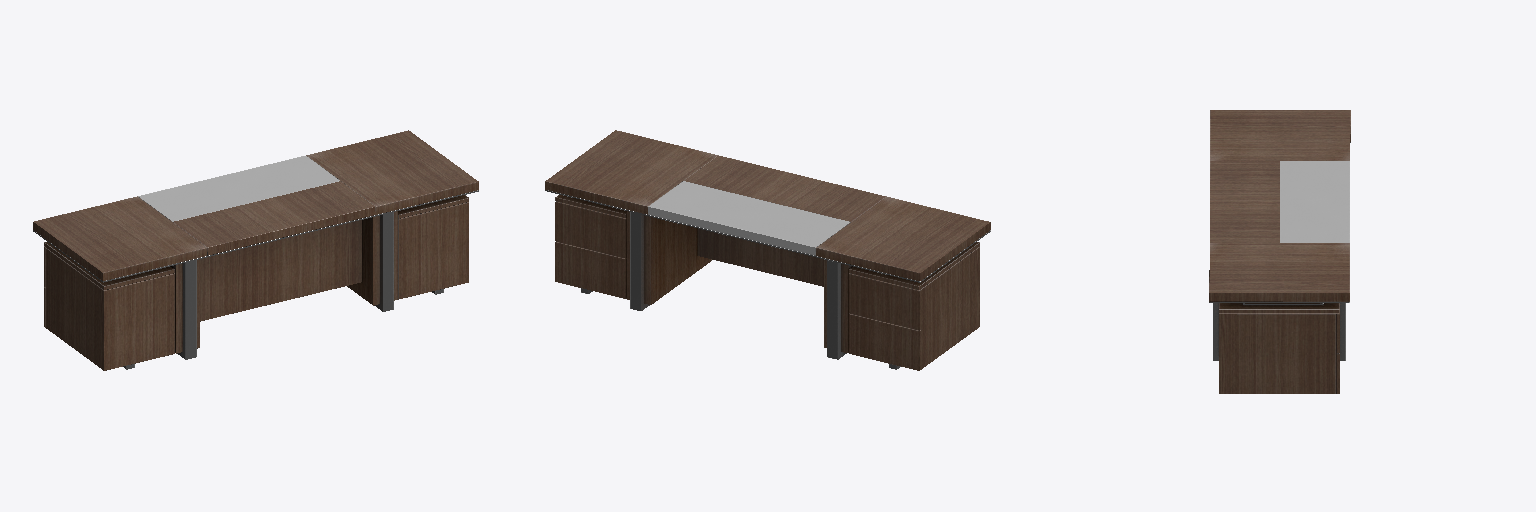
3 views of the same model, side by side, from view 1: azimuth 30°, elevation 25°; view 2: azimuth 150°, elevation 25°; view 3: azimuth 270°, elevation 25° (orthographic).
Visible parts, largest first — view 1: solid_003, solid_001, solid_002; view 2: solid_003, solid_001, solid_002; view 3: solid_003, solid_001, solid_002.
Boxes of the visible parts, x1,y1,x2,y2 form: solid_003: [33, 130, 478, 370]; solid_001: [138, 156, 339, 221]; solid_002: [33, 190, 478, 369]; solid_003: [545, 130, 990, 370]; solid_001: [648, 181, 850, 255]; solid_002: [545, 190, 990, 369]; solid_003: [1209, 110, 1350, 393]; solid_001: [1280, 161, 1349, 242]; solid_002: [1209, 142, 1350, 360].
Size of the model in its own units: 2.78 by 0.77 by 0.906.
Materials: 1 (1 with a texture image).